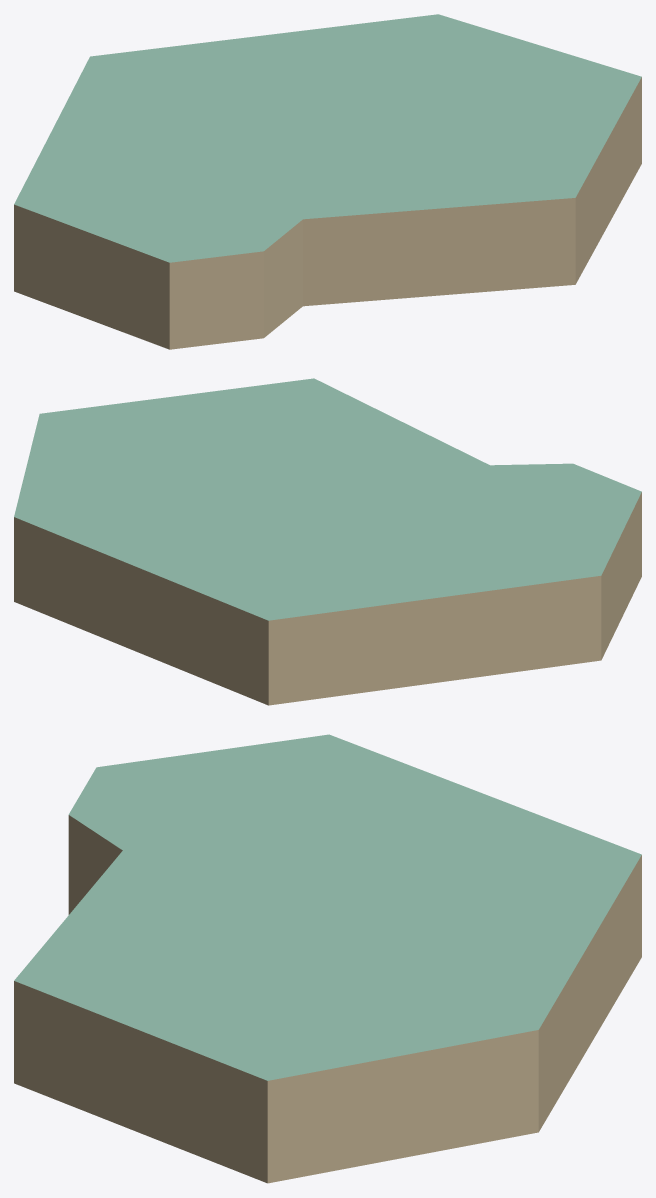
Rendered from naturePack_013.gltf.
3 renders of one model, top to bottom at view 1: azimuth 30°, elevation 25°; view 2: azimuth 150°, elevation 25°; view 3: azimuth 270°, elevation 25°, orthographic. The views are drawn at different scales.
Visible parts, largest first — view 1: Mesh1 Group1 Model; view 2: Mesh1 Group1 Model; view 3: Mesh1 Group1 Model.
Part boxes in pixels (<box>): Mesh1 Group1 Model: <box>14,14,641,349</box>; Mesh1 Group1 Model: <box>14,378,641,705</box>; Mesh1 Group1 Model: <box>14,734,641,1183</box>.
Size of the model in its own units: 1.3 by 0.18 by 0.9987.
